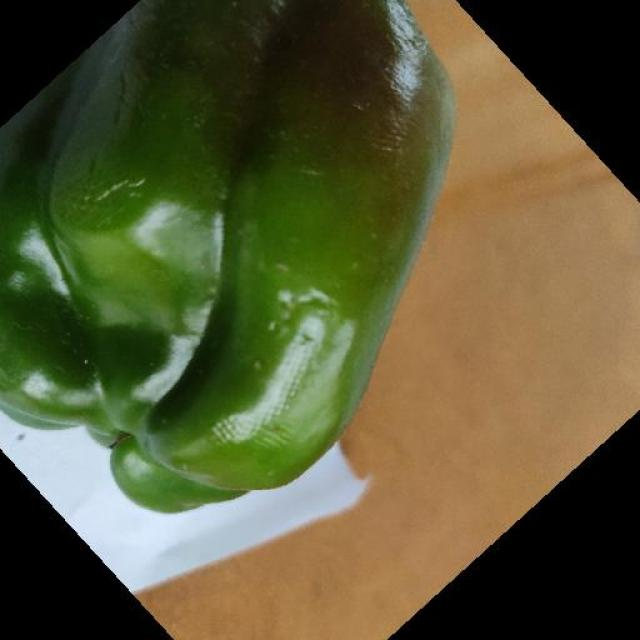Stale_Capsicum: (4, 0, 426, 500)
